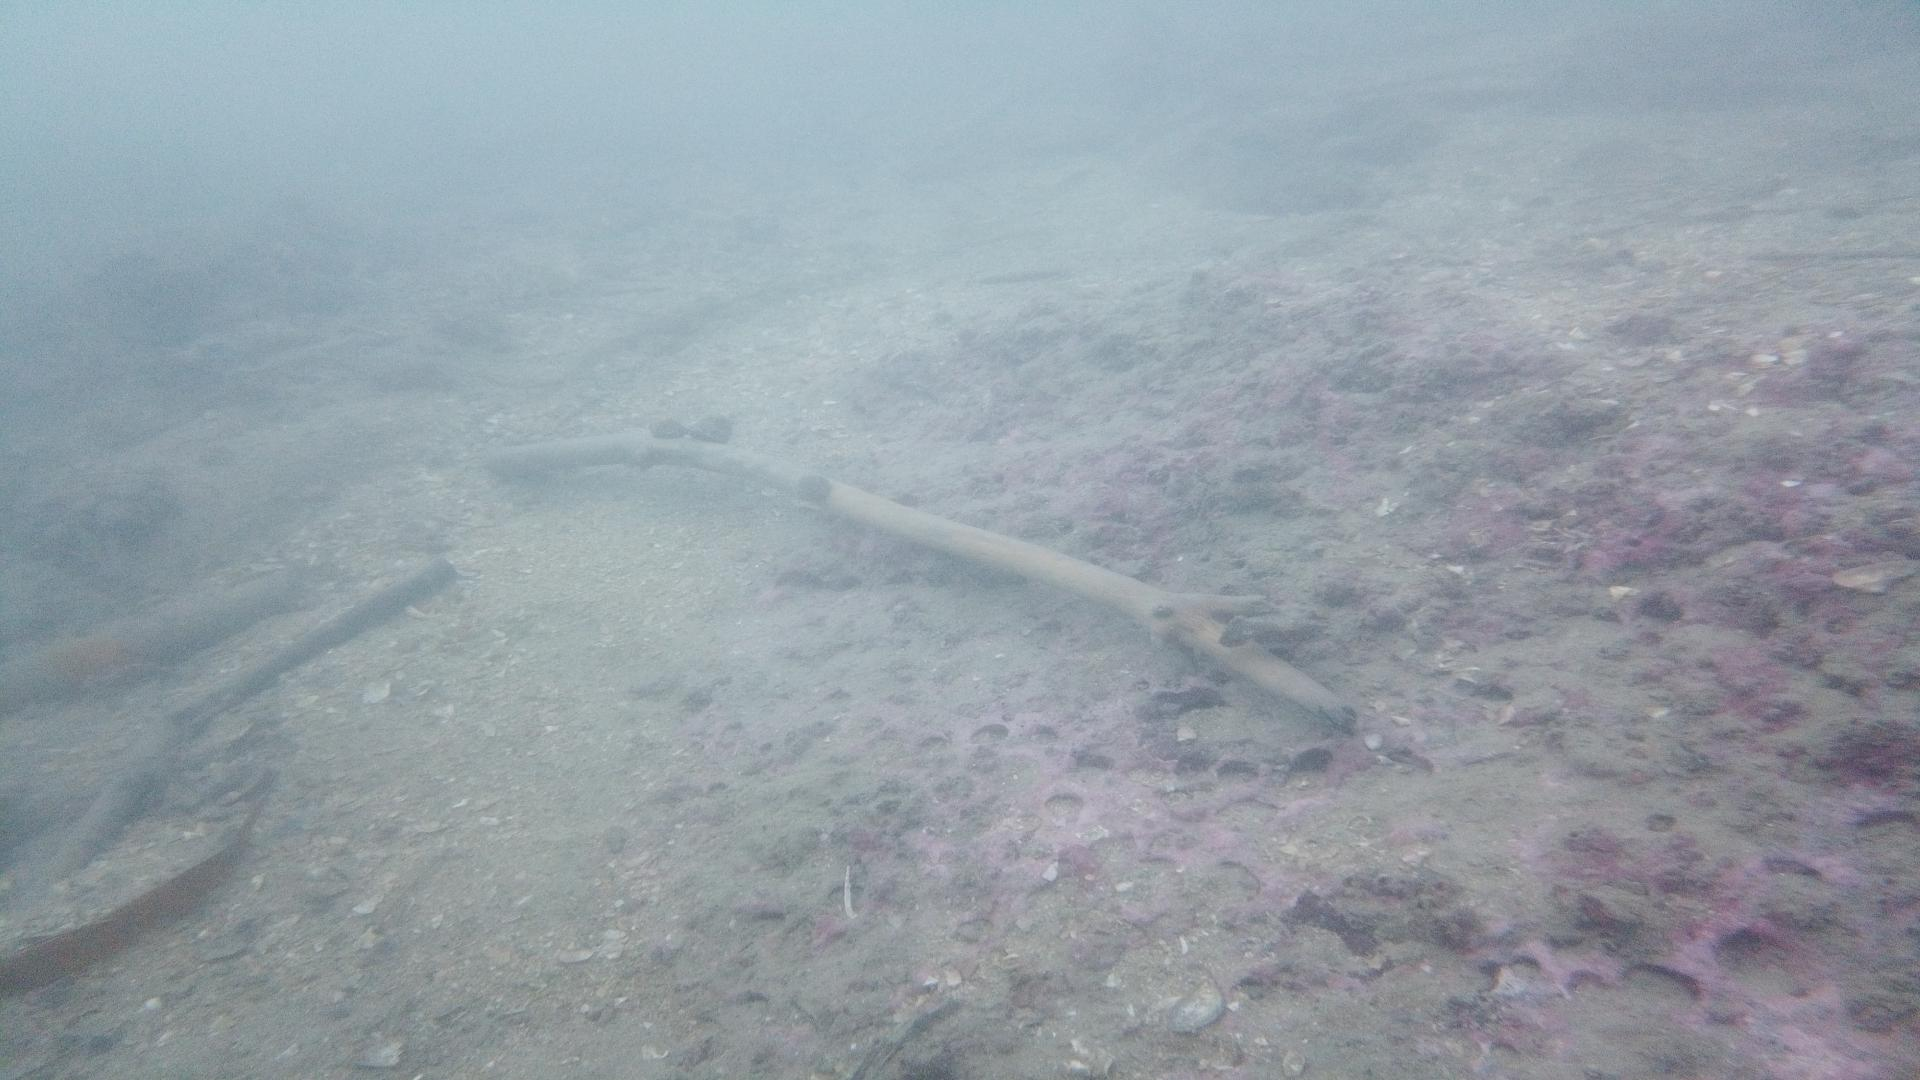wood: (484, 433, 1357, 731)
